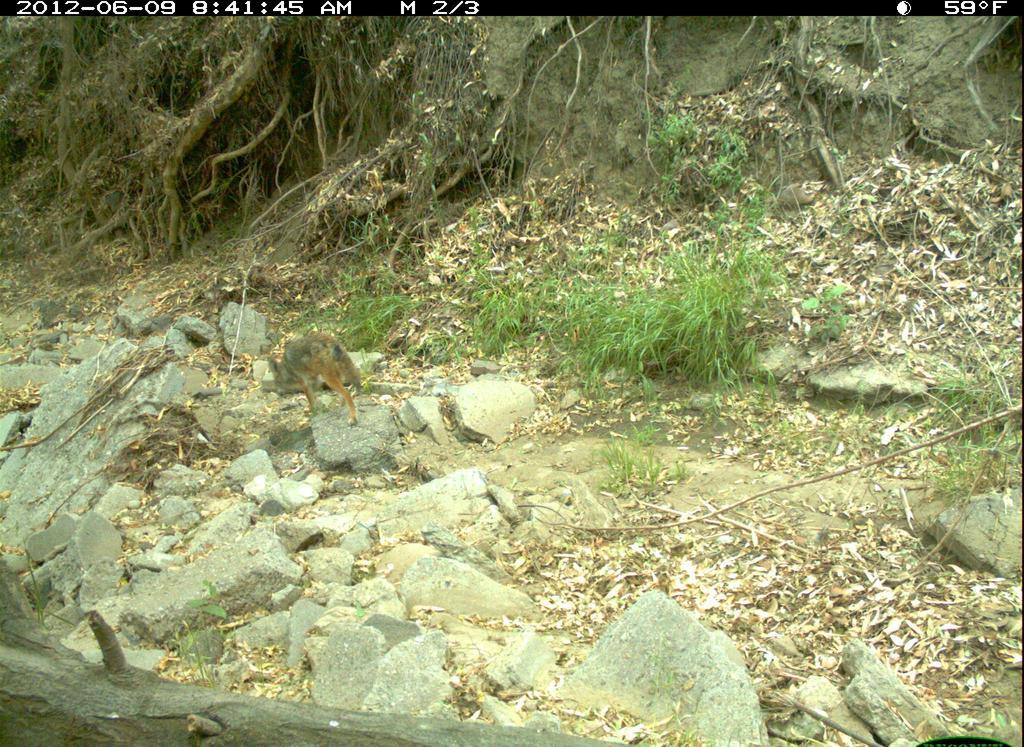coyote: (258, 331, 368, 427)
